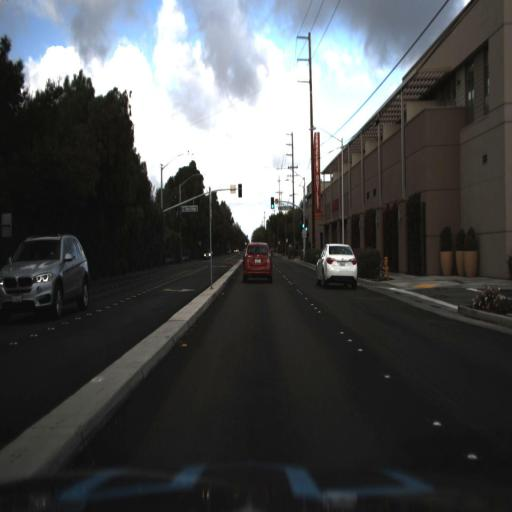car: (0, 235, 92, 318), (232, 231, 284, 290), (316, 236, 361, 294)
trafficLight-Green: (266, 192, 278, 216), (300, 219, 305, 233), (305, 225, 309, 240)
